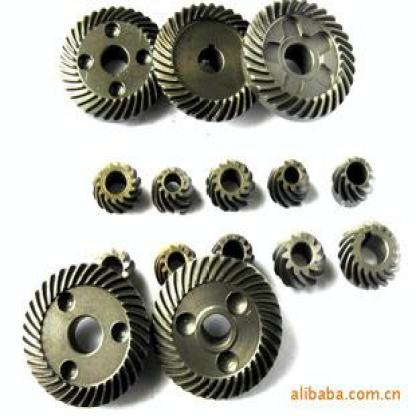FOD: (150, 253, 285, 402), (22, 259, 150, 408), (236, 0, 358, 125), (150, 0, 260, 126), (58, 5, 162, 129), (336, 220, 403, 294), (204, 155, 259, 213), (273, 231, 326, 290), (92, 158, 143, 216), (329, 155, 377, 210), (267, 156, 314, 210), (150, 164, 196, 218)
